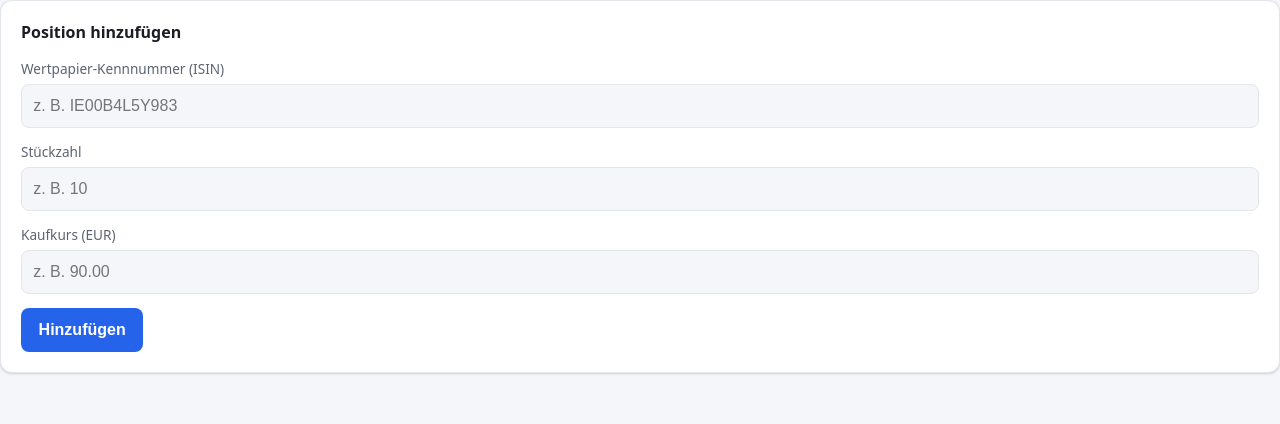
Test: AddPositionForm › zeigt eine Fehlermeldung, wenn die API ablehnt
In the field with id "isin": (640, 106) [21,84,1259,128], type "X"
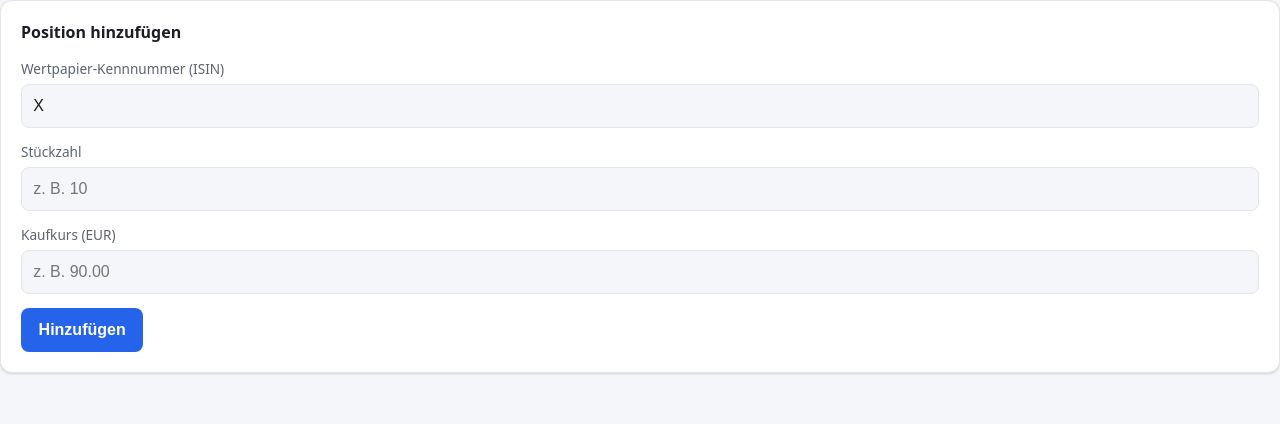
In the number field labelled "Stückzahl": (640, 189) [21,167,1259,211], type "1"
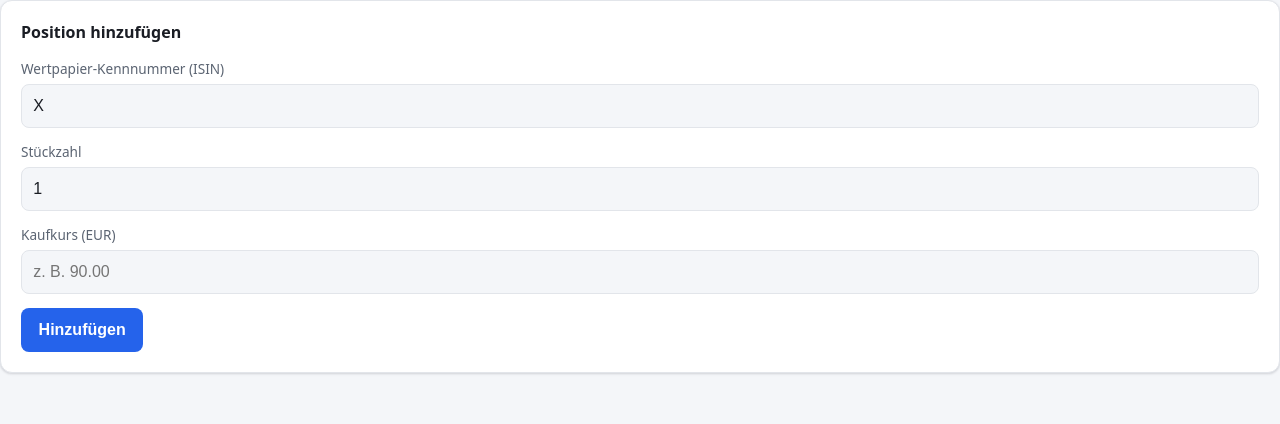
In the number field with id "buyInPrice": (640, 272) [21,250,1259,294], type "1"
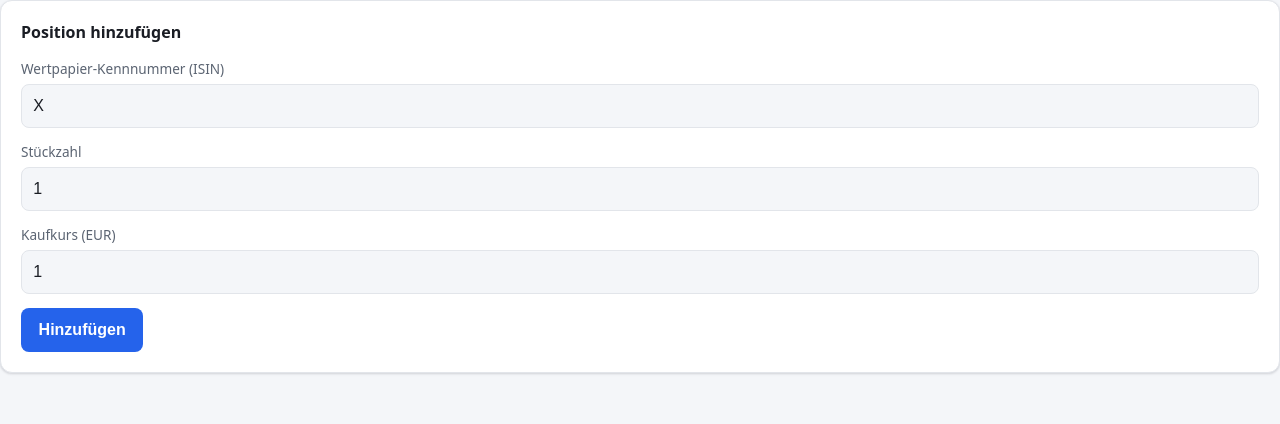
Submit the form
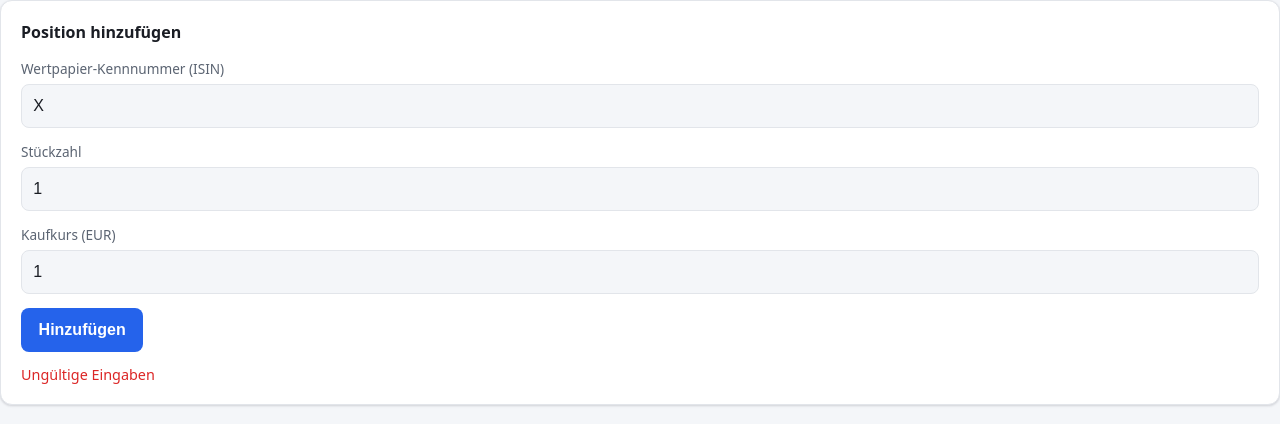
Now the message with class "error" reads "Ungültige Eingaben", box [21,365,155,384]
